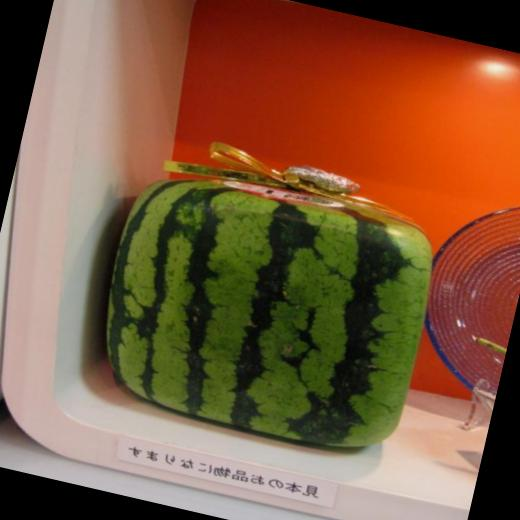Cherry: (83, 160, 446, 463)
